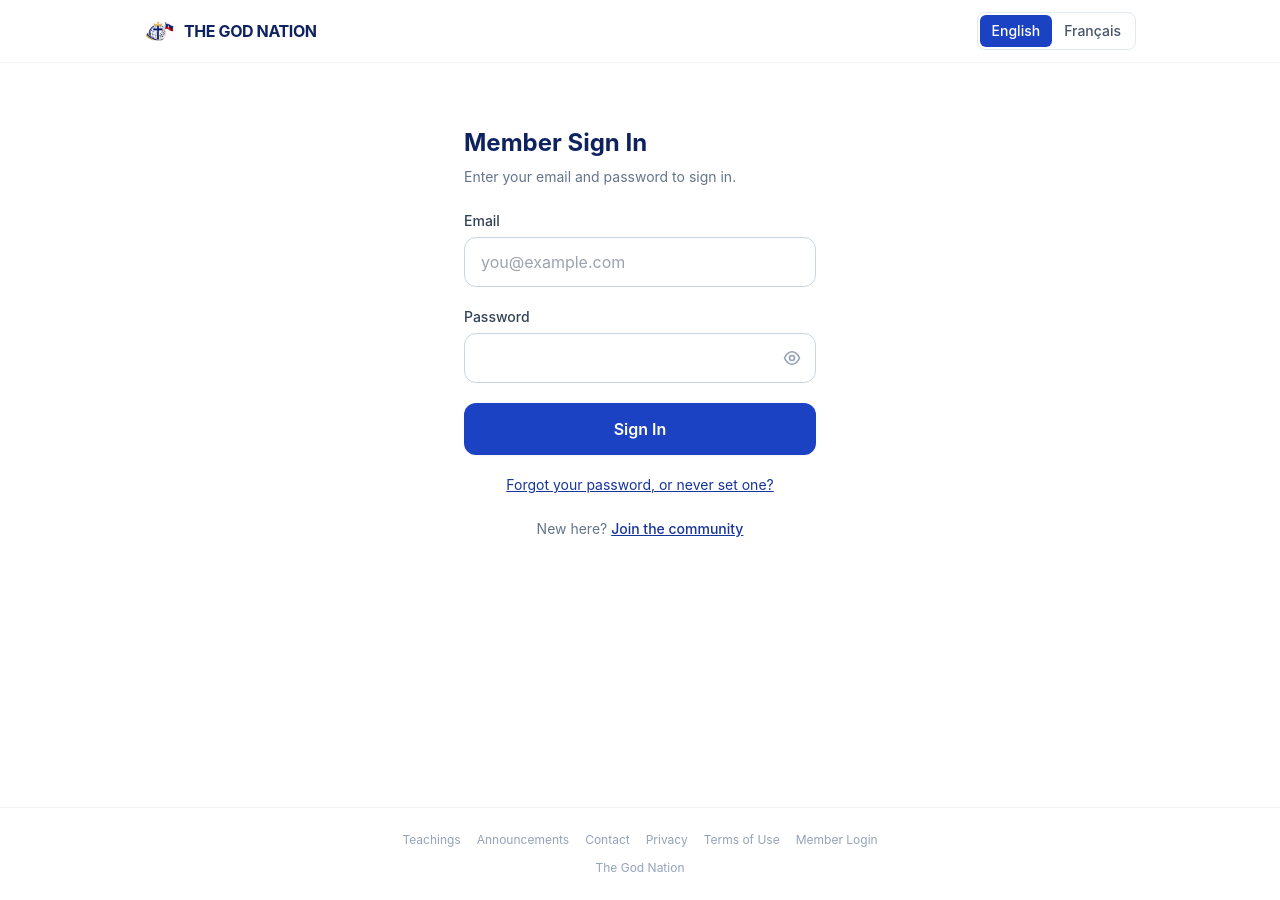
Sign in with email and password › explains wrong credentials without revealing which part was wrong
The image size is (1280, 900).
In the field labelled "Email": [640, 262] box [464,237,816,287], type "ada@example.com"
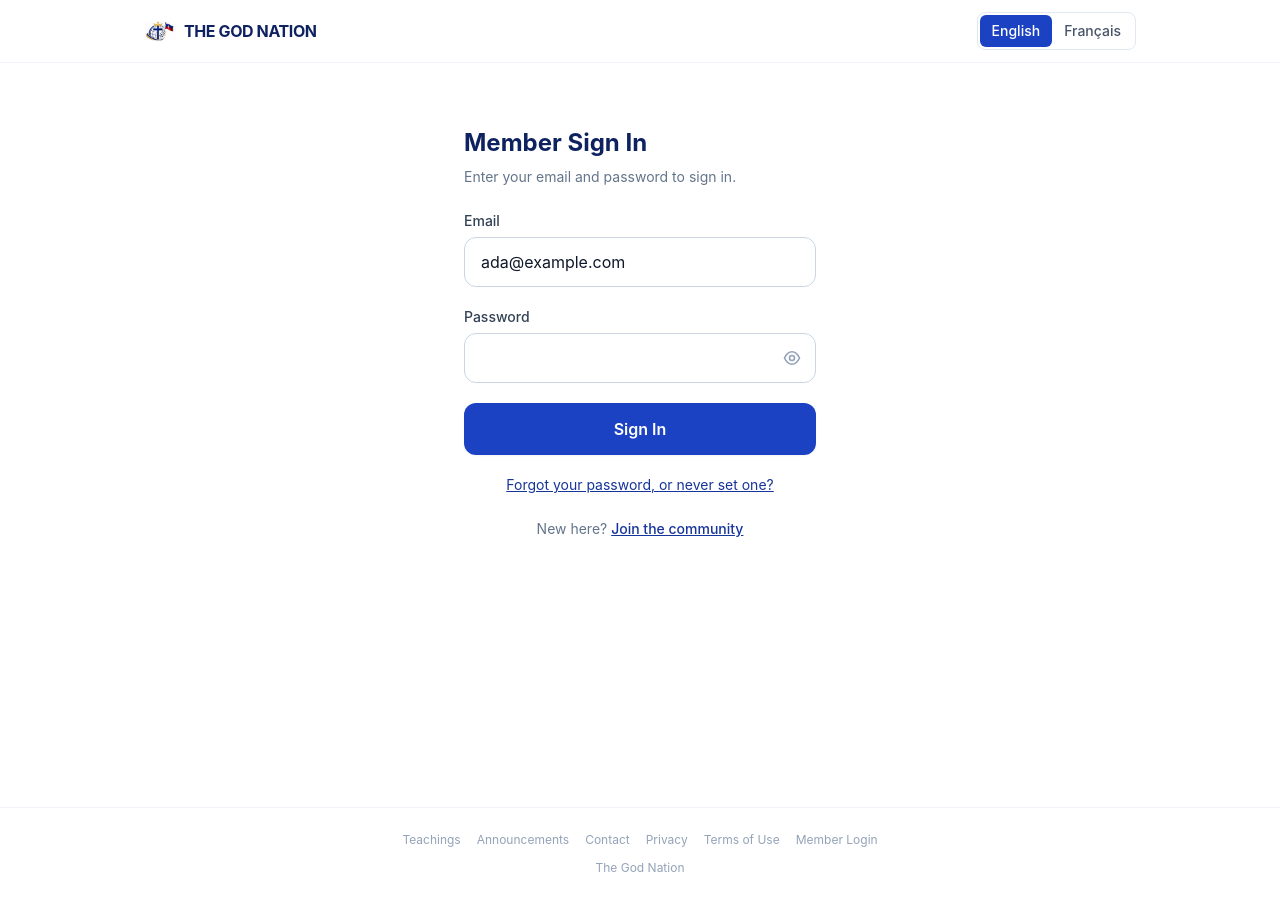
In the password field labelled "Password": [640, 358] box [464,333,816,383], type "wrong-pass"
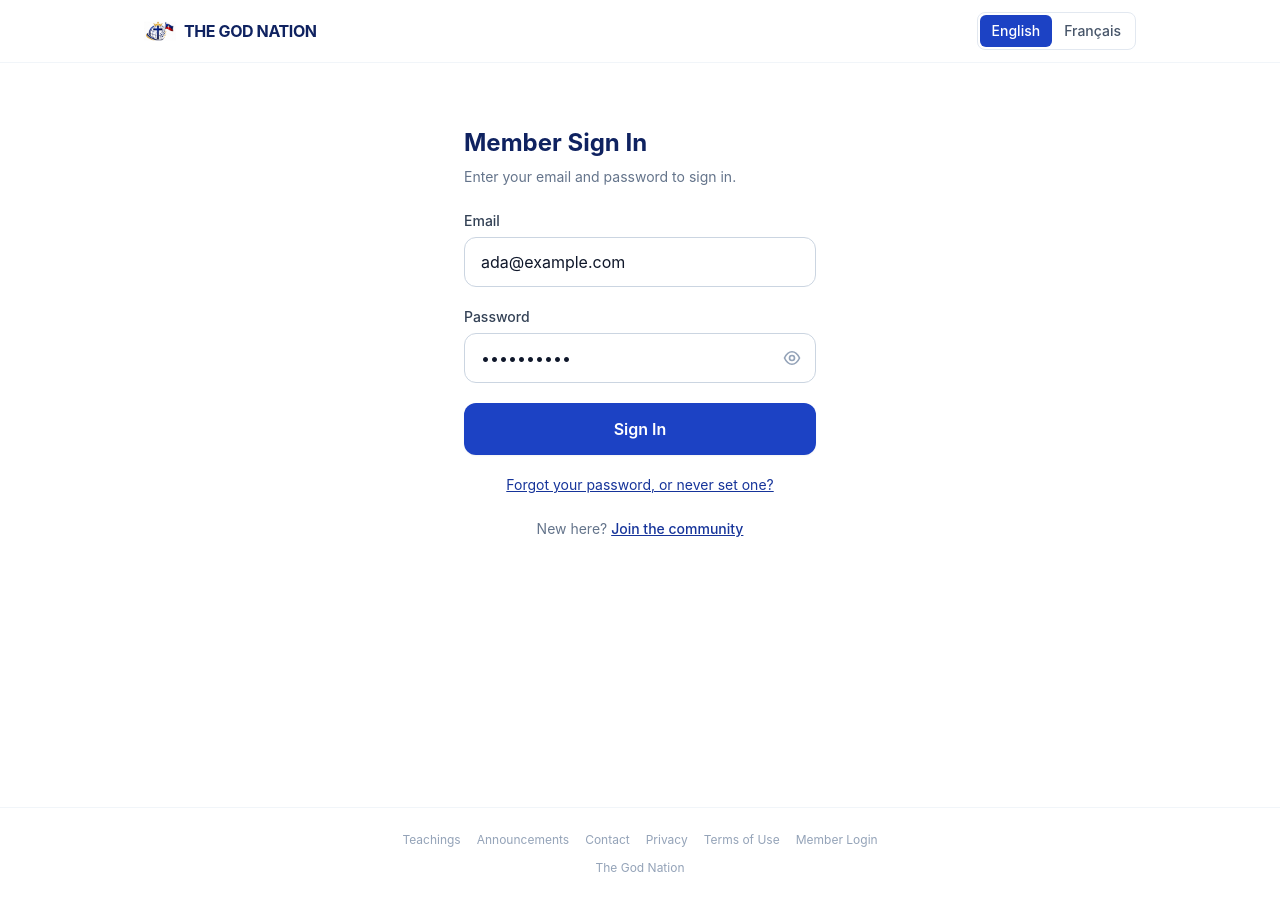
Click the button "Sign In": [640, 429] box [464,403,816,455]
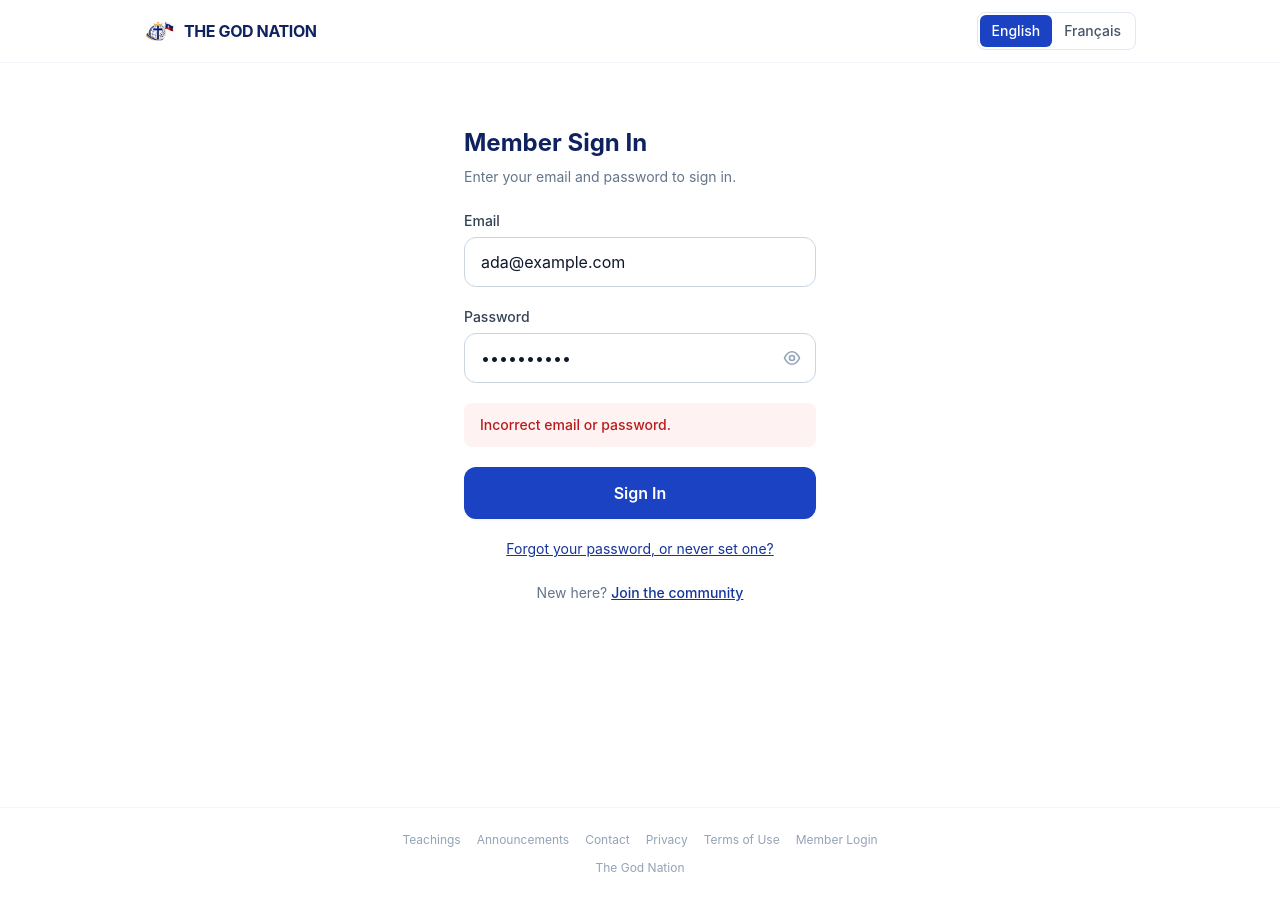
Result: the message reads "Incorrect email or password." at [480,416,671,433]
